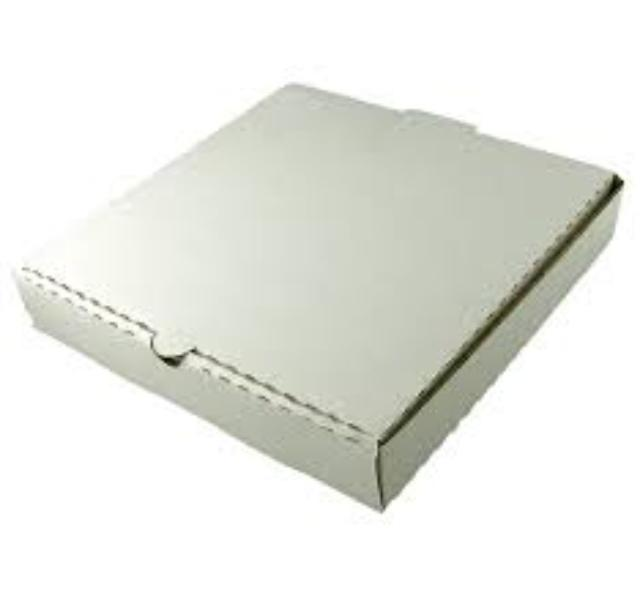cardboard paper: (14, 82, 618, 503)
